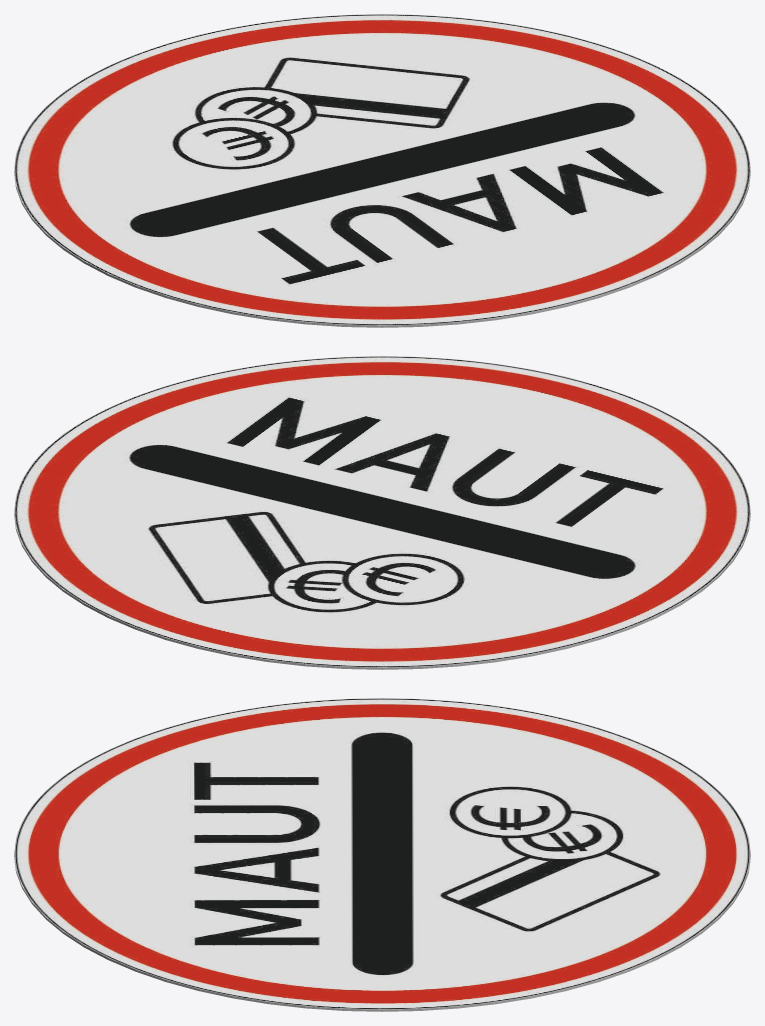
3 views of the same model, one above another, from view 1: azimuth 30°, elevation 25°; view 2: azimuth 150°, elevation 25°; view 3: azimuth 270°, elevation 25° (orthographic).
Parts seen in each view (by area): view 1: Circle_Schild_Rund; view 2: Circle_Schild_Rund; view 3: Circle_Schild_Rund.
Part boxes in pixels (x1,y1,x2,y2): Circle_Schild_Rund: [14, 14, 750, 327]; Circle_Schild_Rund: [14, 356, 750, 669]; Circle_Schild_Rund: [14, 698, 750, 1011].
Size of the model in its own units: 0.6 by 0.002 by 0.6.
Materials: 2 (1 with a texture image).
